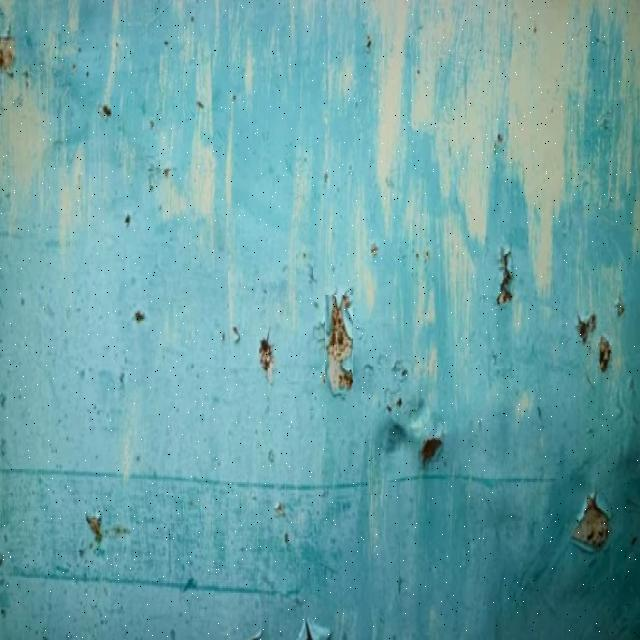Corrosion: (0, 0, 639, 639), (324, 292, 354, 393), (570, 494, 610, 552), (495, 248, 513, 304), (257, 336, 273, 378), (419, 437, 442, 466), (575, 312, 596, 342), (597, 335, 611, 371)
